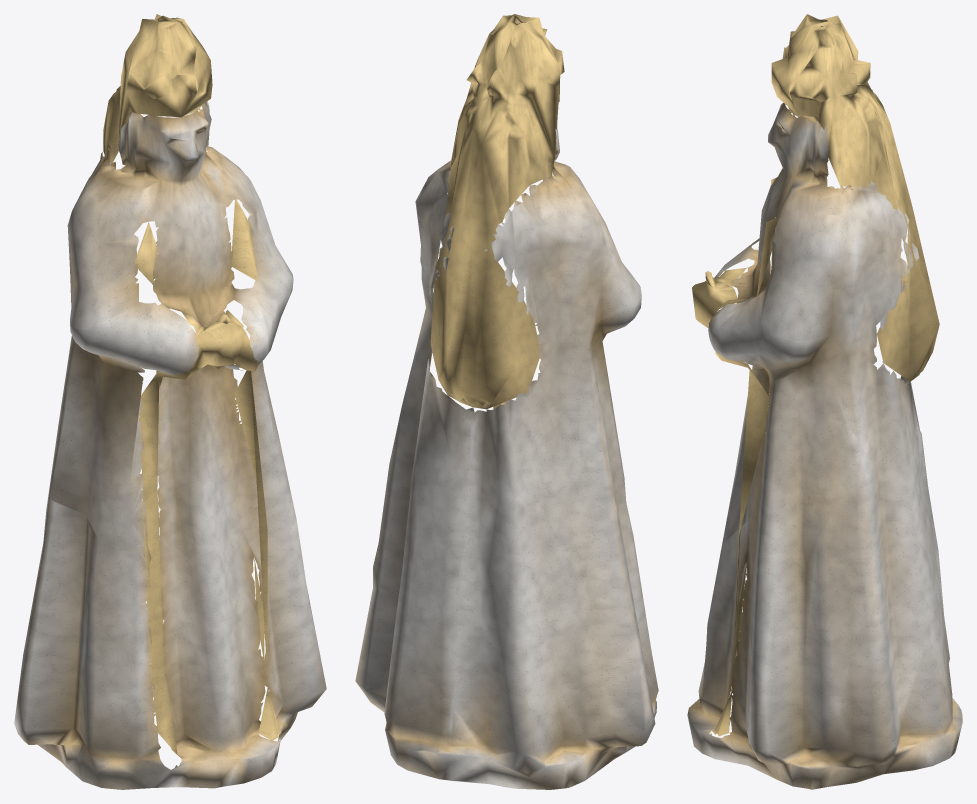
The model's file is Argent_Reliquary_White_Queen.glb.
The picture shows the model from 3 angles, left to right: view 1: azimuth 30°, elevation 25°; view 2: azimuth 150°, elevation 25°; view 3: azimuth 270°, elevation 25°; orthographic projection.
Visible parts, largest first — view 1: Argent Reliquary – White Queen; view 2: Argent Reliquary – White Queen; view 3: Argent Reliquary – White Queen.
Part boxes in pixels (x1,y1,x2,y2): Argent Reliquary – White Queen: (14,14,326,789); Argent Reliquary – White Queen: (355,14,658,789); Argent Reliquary – White Queen: (687,14,962,789).
Bounding box in the file's own units: 0.0338 × 0.0861 × 0.0301.
Materials: 2 (2 with a texture image).
